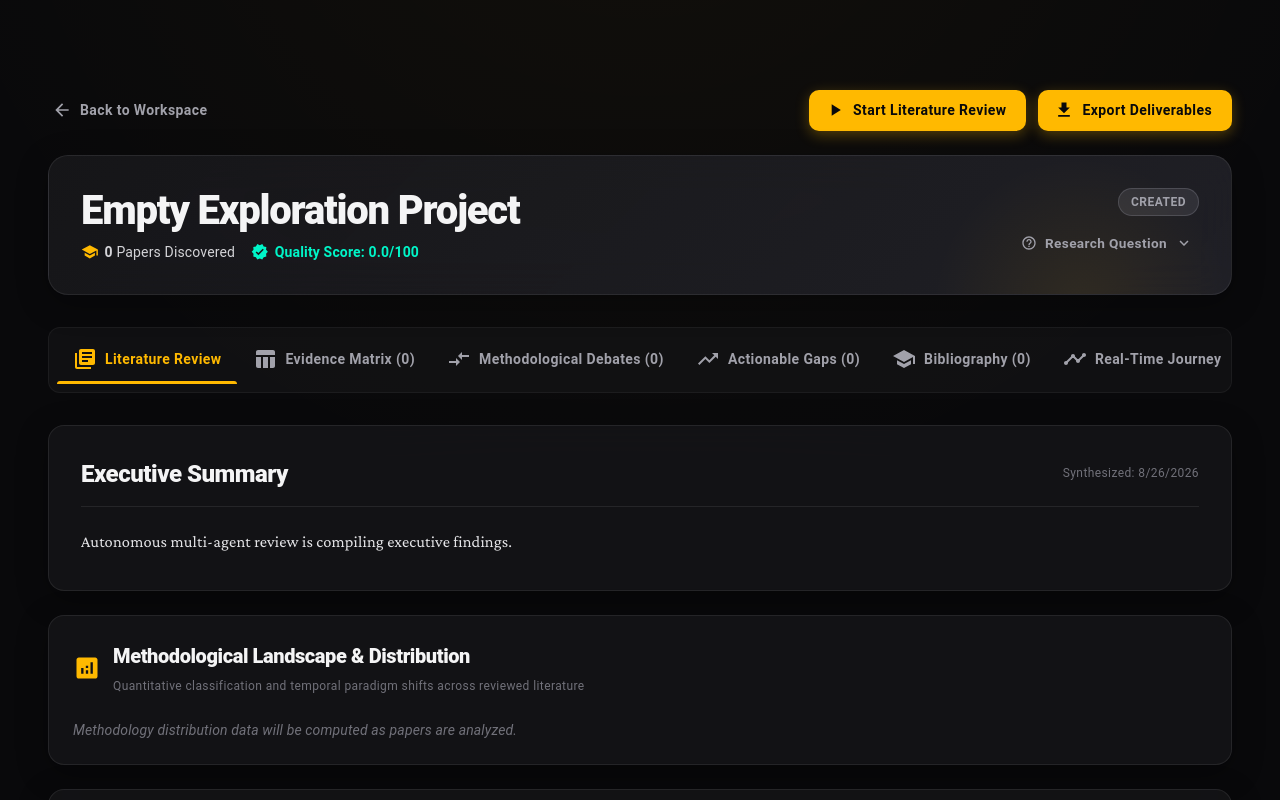
ProjectDetailsPage Empirical Challenger Test Suite › 1. Empty State Verification across all 6 Tabs › Tab 1 (Evidence Matrix): displays empty table message
expect the heading "Empty Exploration Project" is shown: met, box x1=81 y1=186 x2=520 y2=234
Click the tab "Evidence Matrix (0)".
click(334, 360)  # box x1=238 y1=336 x2=431 y2=384
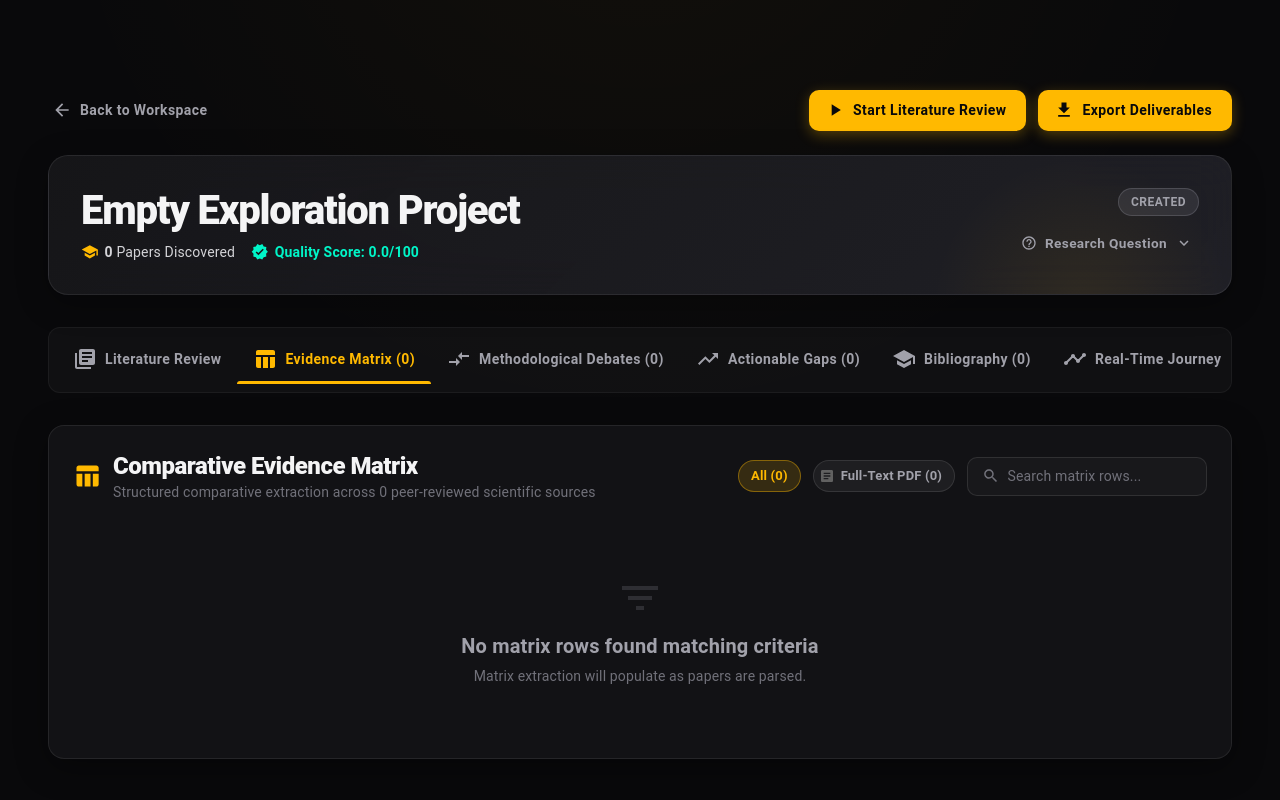
expect the heading "No matrix rows found matching criteria" is shown: met, box x1=461 y1=634 x2=819 y2=658
expect the text "Matrix extraction will populate as papers are parsed." is shown: met, box x1=474 y1=668 x2=806 y2=684
